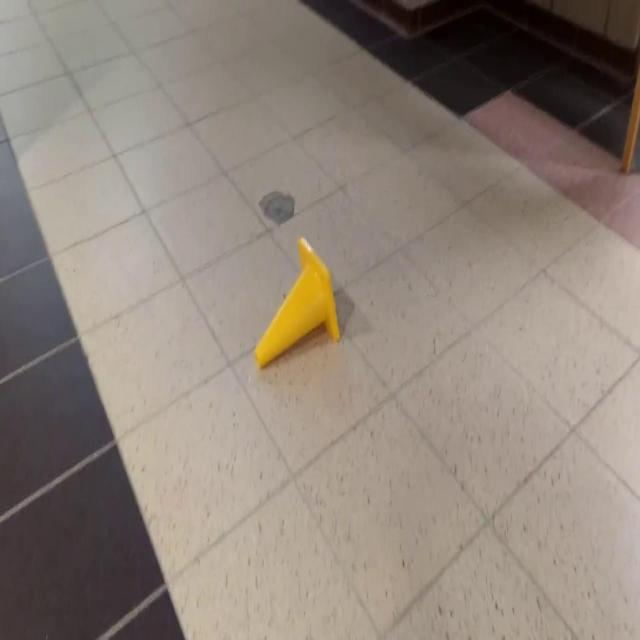frc_cone: (253, 228, 341, 358)
